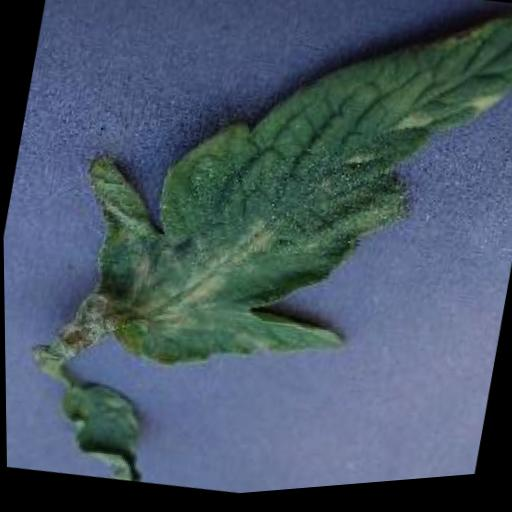Leaf Mold: (53, 0, 512, 436)
